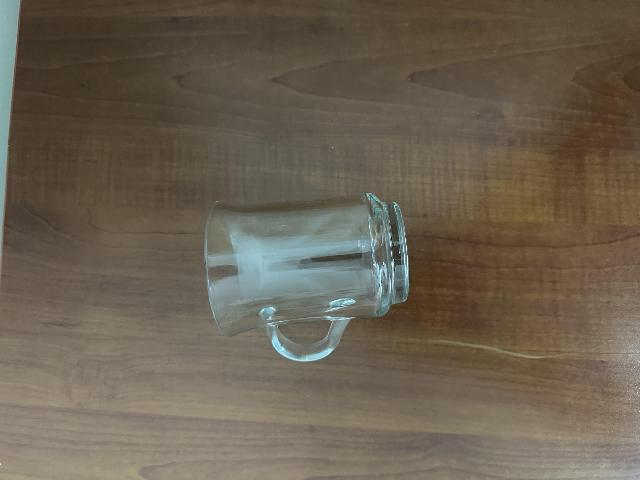Cam: (194, 198, 413, 360)
